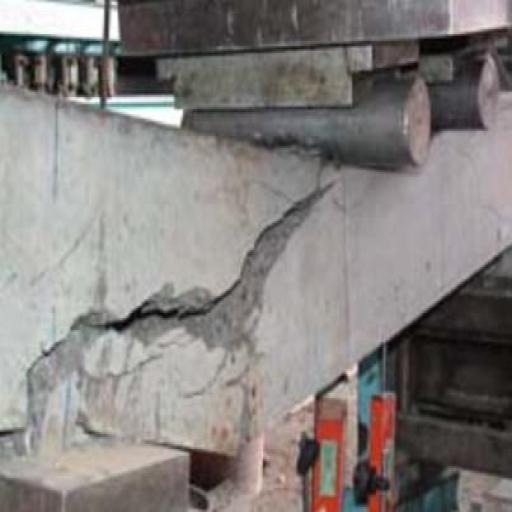spalling: (22, 183, 337, 439)
